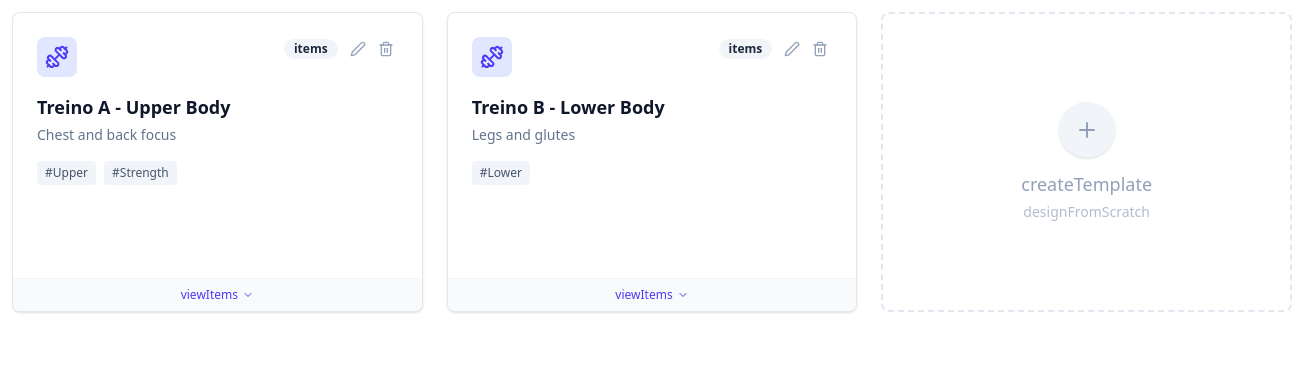
Test: WorkoutLibrary › collapse hides exercises
Click the button "viewItems" below "Strength".
click(217, 294)  # box [13,278,422,311]
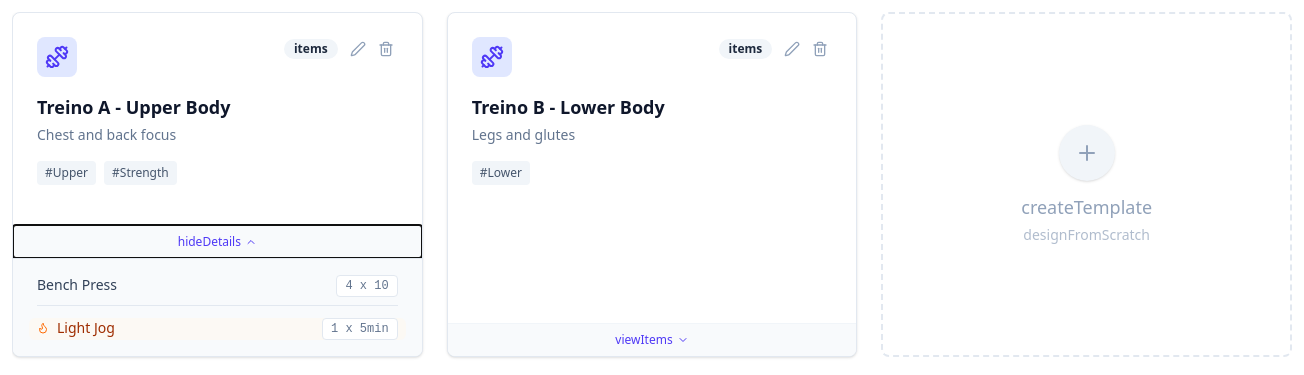
Expected: the text "Bench Press" is shown, [37,275,117,295]
Click hide
Click the button "hideDetails".
click(217, 242)  # box [13,225,422,258]
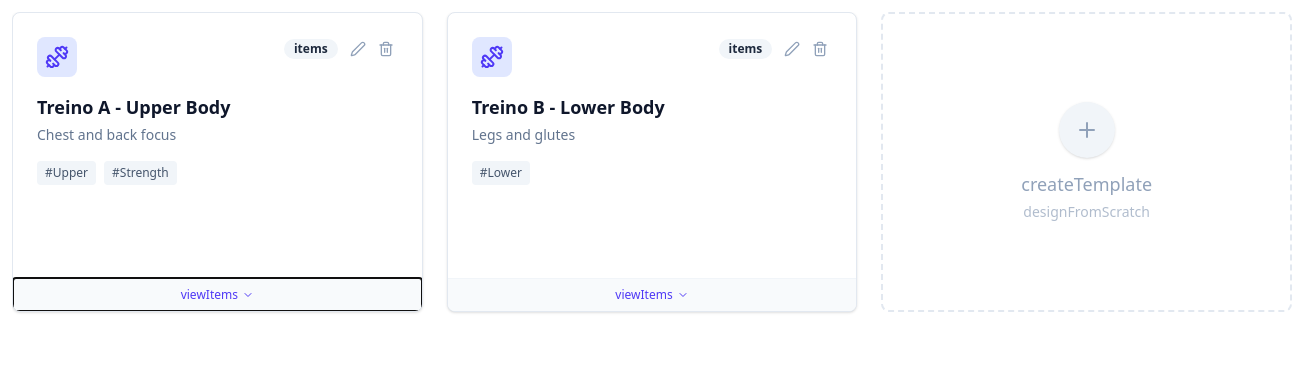
Expected: the text "Bench Press" is gone
